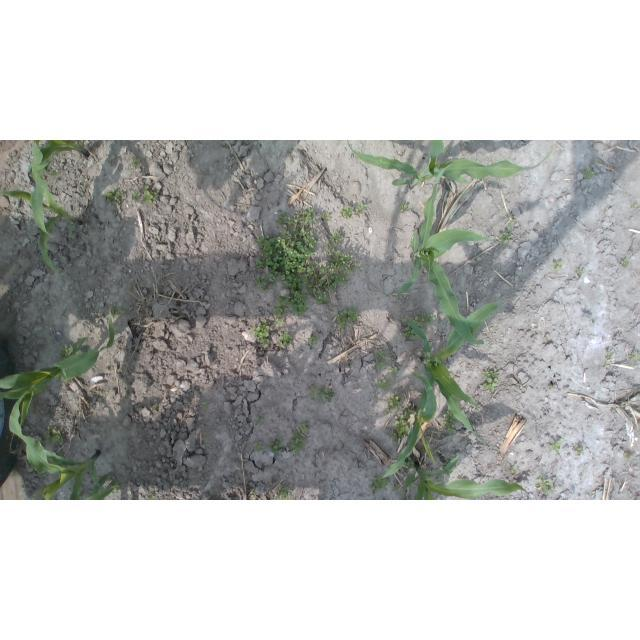Maize: (397, 162, 486, 345), (1, 310, 116, 430), (407, 301, 501, 447), (1, 140, 84, 276), (9, 389, 105, 500), (348, 140, 553, 188), (373, 362, 437, 480), (402, 452, 533, 501), (25, 140, 90, 176), (69, 467, 116, 500)
Weeds: (254, 227, 318, 275), (308, 262, 347, 305), (286, 290, 311, 317), (251, 319, 272, 350), (281, 270, 308, 291), (288, 207, 317, 226), (336, 308, 358, 331), (333, 252, 353, 277), (307, 387, 335, 404), (412, 313, 436, 332), (288, 431, 307, 454), (441, 410, 457, 435), (43, 426, 65, 444), (370, 475, 390, 493), (481, 370, 499, 390), (104, 188, 125, 205), (536, 475, 553, 495), (143, 185, 160, 204), (275, 296, 290, 317), (498, 225, 513, 245), (269, 436, 284, 455), (253, 275, 269, 292), (395, 419, 410, 437), (404, 325, 421, 340), (279, 332, 293, 349), (279, 484, 293, 501), (275, 211, 287, 229), (58, 347, 72, 361), (340, 206, 354, 220), (330, 231, 343, 245), (402, 408, 415, 420), (583, 167, 596, 179), (299, 421, 310, 435), (388, 396, 400, 408), (324, 243, 335, 256), (111, 306, 126, 315), (308, 332, 319, 344), (131, 156, 141, 169), (404, 456, 414, 469), (551, 440, 561, 453), (378, 380, 392, 389), (273, 317, 285, 327), (627, 351, 640, 360), (112, 484, 123, 494), (553, 261, 564, 271), (356, 203, 368, 212), (623, 452, 635, 461), (269, 276, 277, 289), (130, 191, 140, 201), (377, 362, 386, 373), (376, 349, 385, 360), (387, 368, 397, 377), (253, 444, 262, 453), (256, 416, 265, 425), (445, 458, 454, 467), (621, 258, 629, 268), (322, 212, 330, 221), (393, 484, 401, 493), (576, 447, 584, 456), (400, 204, 408, 212), (510, 465, 518, 473), (606, 353, 612, 363), (151, 405, 157, 414), (392, 434, 400, 440), (148, 494, 156, 500), (102, 391, 109, 397), (578, 269, 585, 275), (354, 262, 360, 268), (385, 410, 391, 415), (447, 470, 453, 475), (202, 496, 209, 500), (92, 140, 97, 145), (210, 492, 215, 497), (84, 178, 88, 184), (453, 462, 456, 469), (204, 404, 208, 409), (632, 203, 636, 207)
